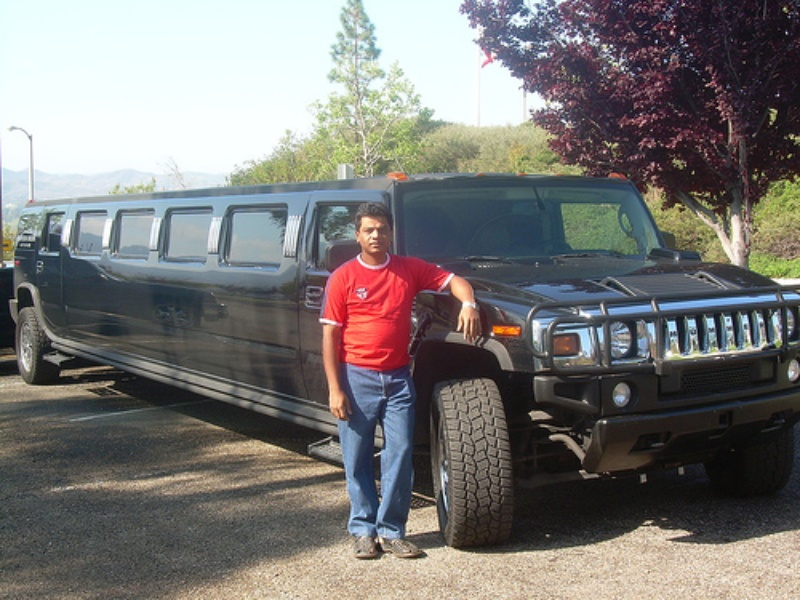car: (10, 171, 800, 547)
person: (322, 203, 483, 554)
